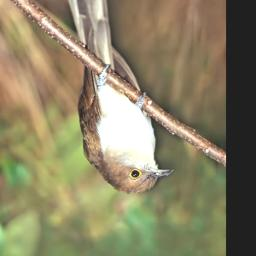Cuckoo: (63, 0, 172, 195)
